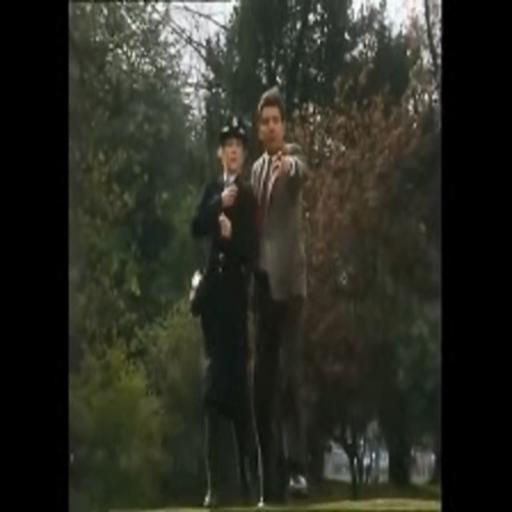nao-violencia: (176, 76, 323, 512)
